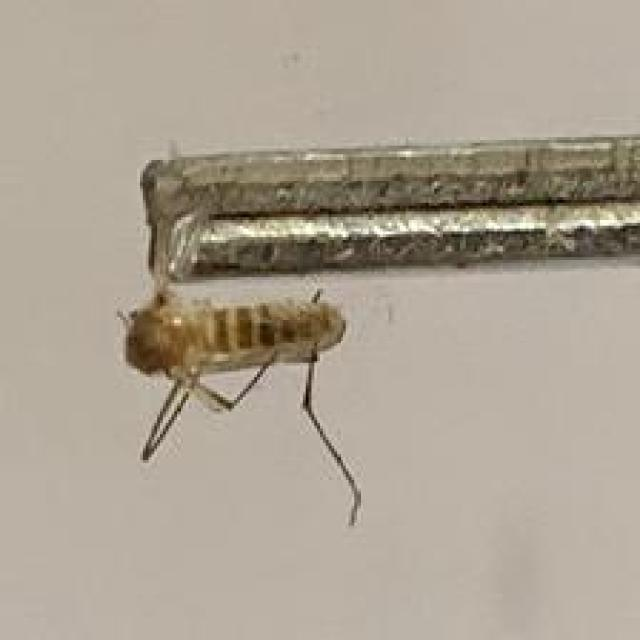Culex: (117, 283, 363, 526)
